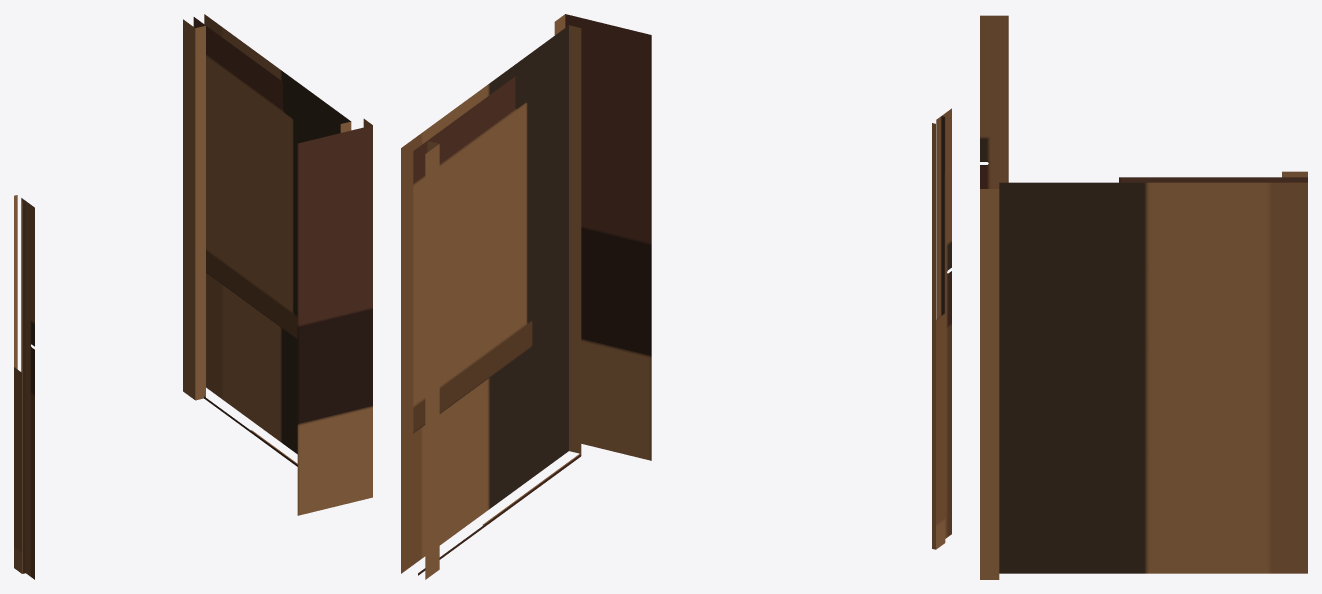
Rendered from section-1.obj.
3 views of the same model, side by side, from view 1: azimuth 30°, elevation 25°; view 2: azimuth 150°, elevation 25°; view 3: azimuth 270°, elevation 25° (orthographic). The views are drawn at different scales.
Size of the model in its own units: 0.96 by 1 by 0.76.
